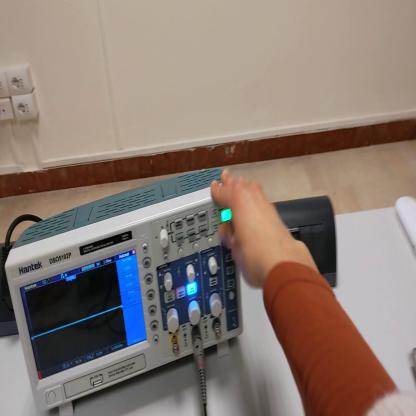hand: (210, 174, 299, 290)
oscilloscope: (5, 168, 241, 415)
socket: (2, 243, 21, 340)
